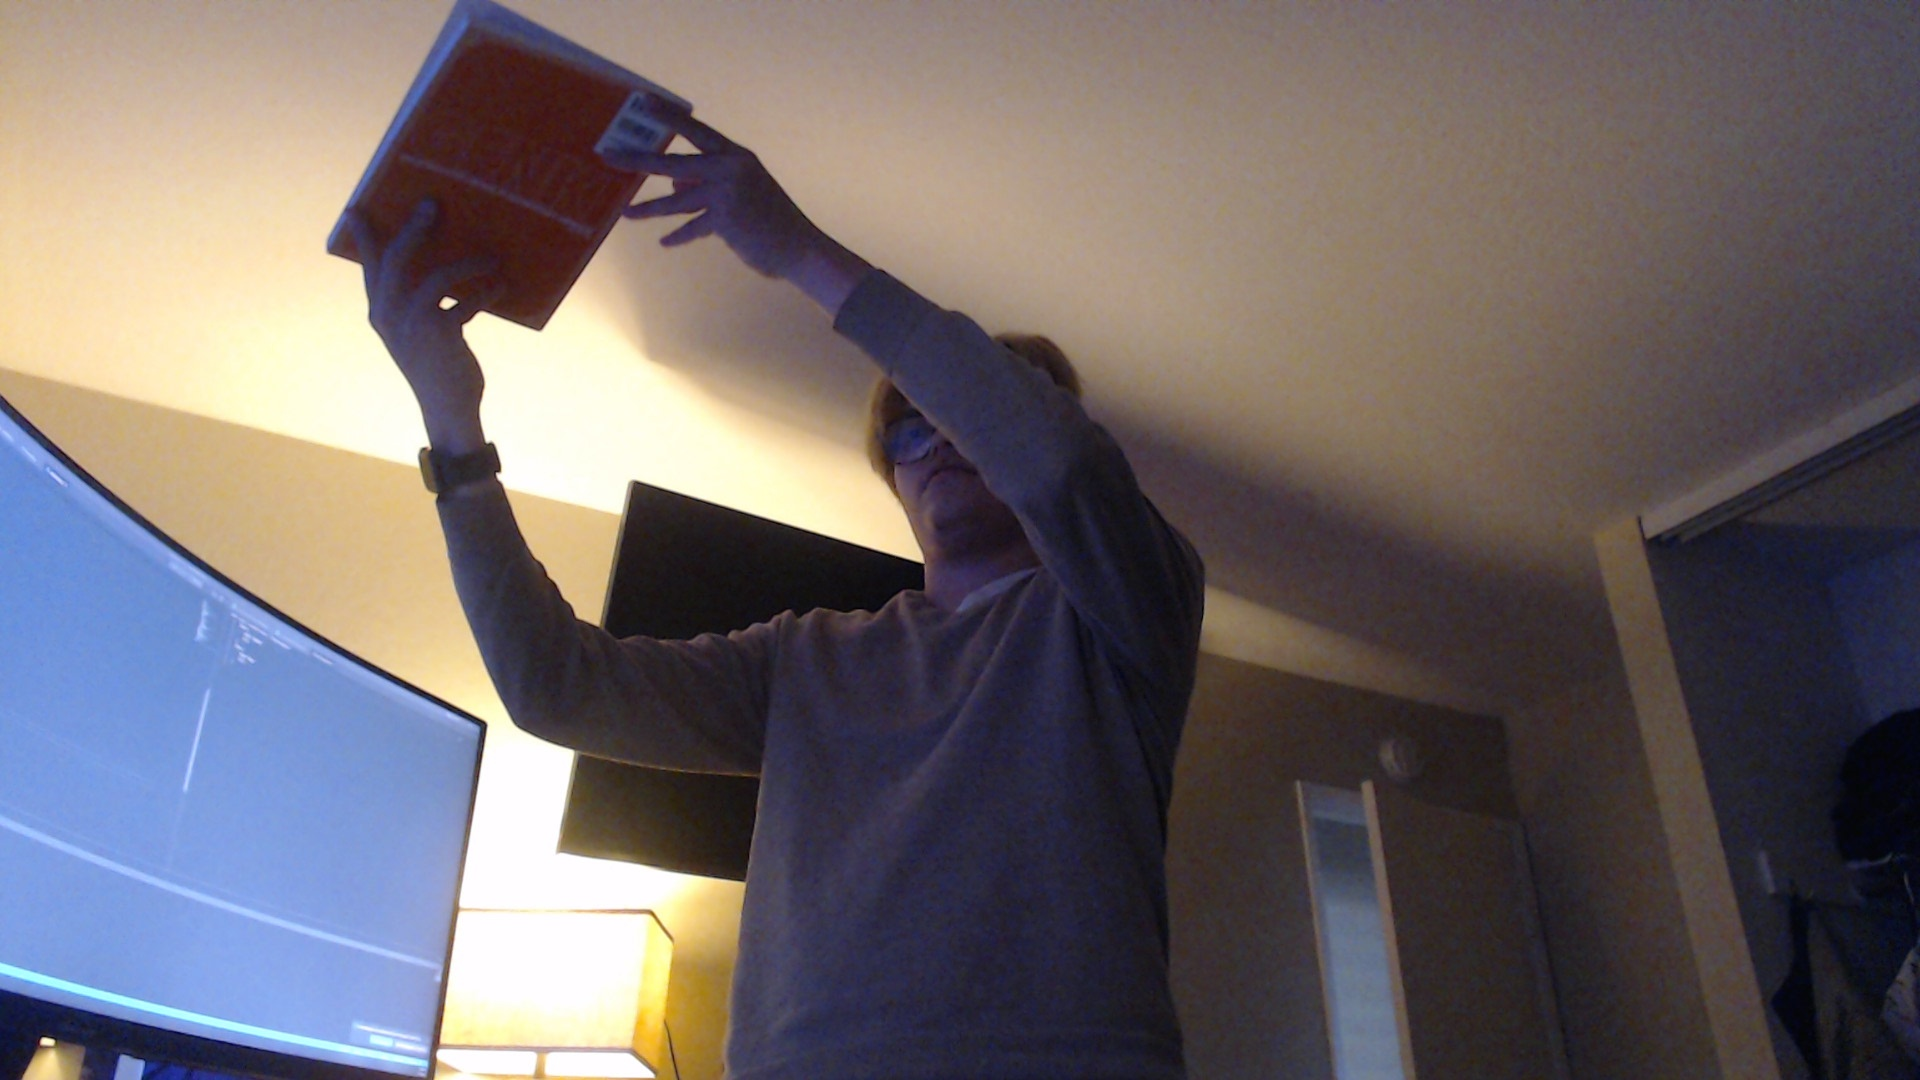book: (327, 3, 695, 342)
